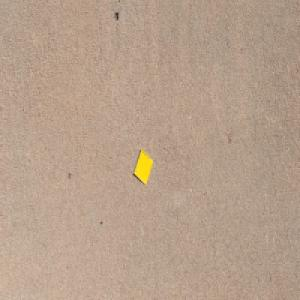PlasticPart: (133, 148, 153, 185)
